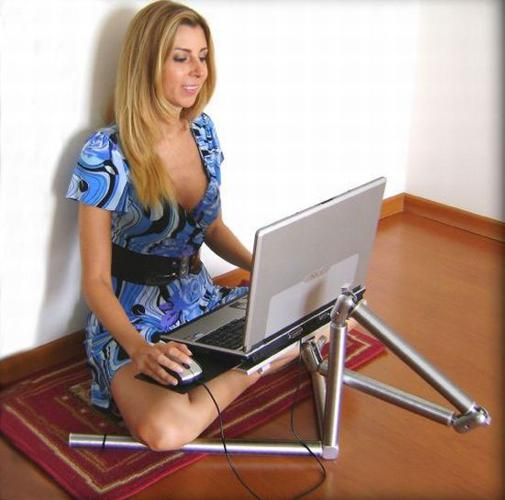person: (67, 1, 353, 450)
